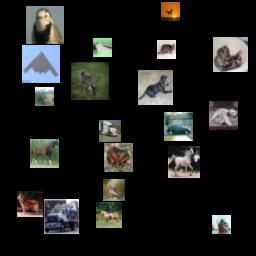airplane: (22, 45, 60, 83)
automobile: (164, 112, 193, 141)
bird: (26, 6, 64, 44), (103, 179, 125, 201)
cat: (213, 37, 248, 72), (93, 38, 112, 57), (157, 40, 176, 59)
deer: (71, 62, 109, 100), (35, 87, 54, 106)
dog: (138, 70, 173, 105), (209, 101, 238, 130), (17, 191, 43, 217)
frog: (104, 143, 133, 172)
ship: (212, 215, 231, 234)
truck: (44, 199, 79, 234), (99, 120, 121, 142)
